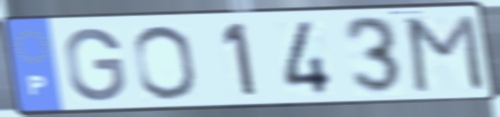1: (219, 20, 263, 99)
3: (345, 13, 403, 99)
4: (281, 17, 335, 98)
G: (63, 26, 129, 104)
M: (404, 11, 489, 95)
O: (130, 23, 201, 102)
